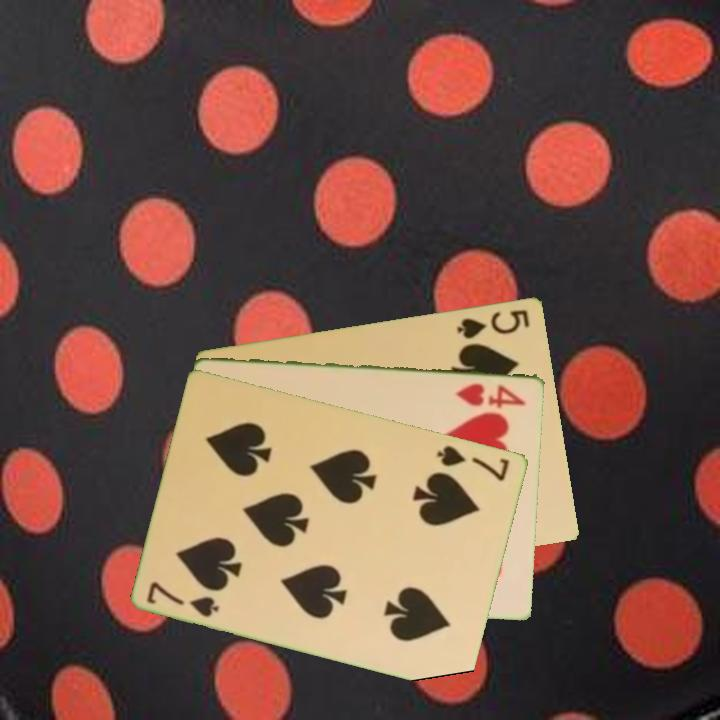4h: (453, 379, 529, 409)
5s: (453, 305, 533, 342)
7s: (434, 441, 513, 484), (143, 578, 223, 620)
